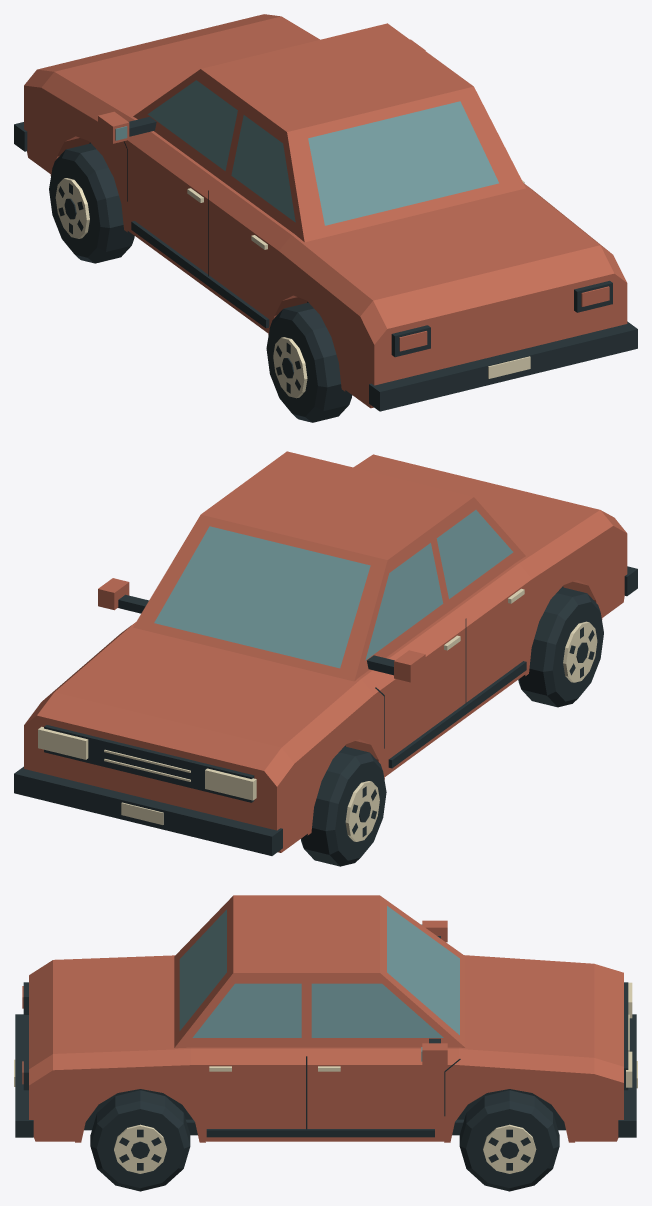
The model's file is sedan.glb.
3 views of the same model, one above another, from view 1: azimuth 30°, elevation 25°; view 2: azimuth 150°, elevation 25°; view 3: azimuth 270°, elevation 25° (orthographic). The views are drawn at different scales.
Visible parts, largest first — view 1: Body_upper_facets_1, Body_shell_0, Cabin_roof_13, Rear_window_17, Rear_window_frame_15, Wheel_Rear_Left, Wheel_Front_Left, Rear_bumper_39, Cabin_side_11, Front_side_window_19, Quarter_window_18, Sill_trim_24 (+6 smaller); view 2: Body_upper_facets_1, Body_shell_0, Windshield_16, Cabin_roof_13, Windshield_frame_14, Wheel_Rear_Left, Wheel_Front_Left, Front_bumper_37, Cabin_side_11, Front_side_window_19, Front_grille_32, Quarter_window_18 (+7 smaller); view 3: Body_upper_facets_1, Body_shell_0, Cabin_roof_13, Wheel_Front_Right, Wheel_Rear_Right, Cabin_side_12, Front_side_window_21, Windshield_16, Quarter_window_20, Rear_window_17, Windshield_frame_14, Sill_trim_27 (+9 smaller).
Boxes of the visible parts, bbox=[...] form: Body_upper_facets_1: bbox=[24, 14, 626, 344]; Body_shell_0: bbox=[24, 85, 627, 408]; Cabin_roof_13: bbox=[201, 23, 473, 131]; Rear_window_17: bbox=[308, 101, 498, 225]; Rear_window_frame_15: bbox=[287, 86, 525, 242]; Wheel_Rear_Left: bbox=[266, 302, 352, 422]; Wheel_Front_Left: bbox=[49, 143, 134, 263]; Rear_bumper_39: bbox=[369, 321, 637, 411]; Cabin_side_11: bbox=[133, 69, 304, 241]; Front_side_window_19: bbox=[147, 80, 237, 170]; Quarter_window_18: bbox=[231, 115, 295, 222]; Sill_trim_24: bbox=[131, 221, 269, 328]; Body_upper_facets_1: bbox=[24, 454, 626, 786]; Body_shell_0: bbox=[24, 526, 627, 852]; Windshield_16: bbox=[154, 526, 370, 668]; Cabin_roof_13: bbox=[201, 451, 473, 559]; Windshield_frame_14: bbox=[133, 514, 387, 681]; Wheel_Rear_Left: bbox=[518, 587, 603, 707]; Wheel_Front_Left: bbox=[301, 746, 386, 866]; Front_bumper_37: bbox=[14, 766, 282, 855]; Cabin_side_11: bbox=[354, 497, 525, 680]; Front_side_window_19: bbox=[365, 543, 443, 660]; Front_grille_32: bbox=[44, 725, 254, 802]; Quarter_window_18: bbox=[436, 510, 513, 598]; Body_upper_facets_1: bbox=[29, 955, 623, 1085]; Body_shell_0: bbox=[29, 1065, 623, 1141]; Cabin_roof_13: bbox=[233, 895, 379, 972]; Wheel_Front_Right: bbox=[459, 1090, 559, 1191]; Wheel_Rear_Right: bbox=[90, 1090, 190, 1191]; Cabin_side_12: bbox=[174, 973, 464, 1048]; Front_side_window_21: bbox=[311, 983, 443, 1037]; Windshield_16: bbox=[387, 906, 459, 1034]; Quarter_window_20: bbox=[192, 983, 301, 1037]; Rear_window_17: bbox=[179, 909, 226, 1030]; Windshield_frame_14: bbox=[380, 895, 465, 1047]; Sill_trim_27: bbox=[206, 1129, 434, 1137].
Bounding box in the file's own units: 2.17 × 1.57 × 4.43.
